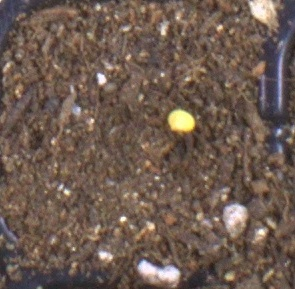chilli seed: (167, 108, 196, 132)
